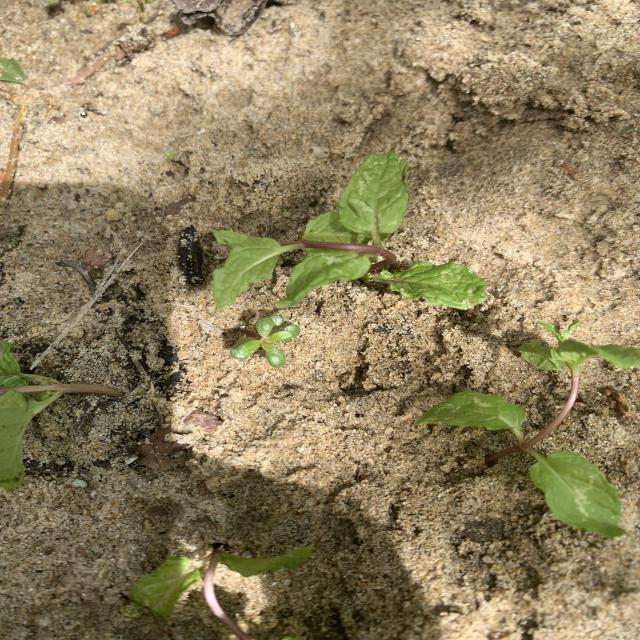crop: (414, 321, 640, 537), (212, 152, 486, 311), (1, 341, 113, 490), (131, 549, 309, 639)
weed: (230, 315, 300, 367)
